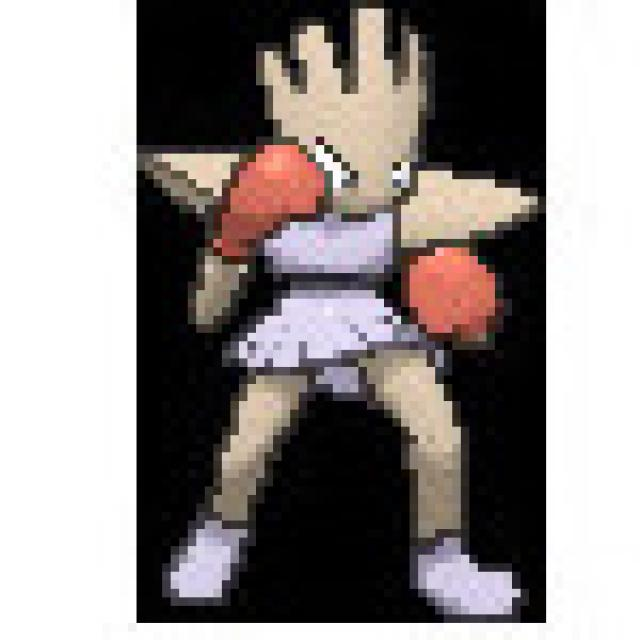Hitmonchan: (135, 2, 541, 623)
